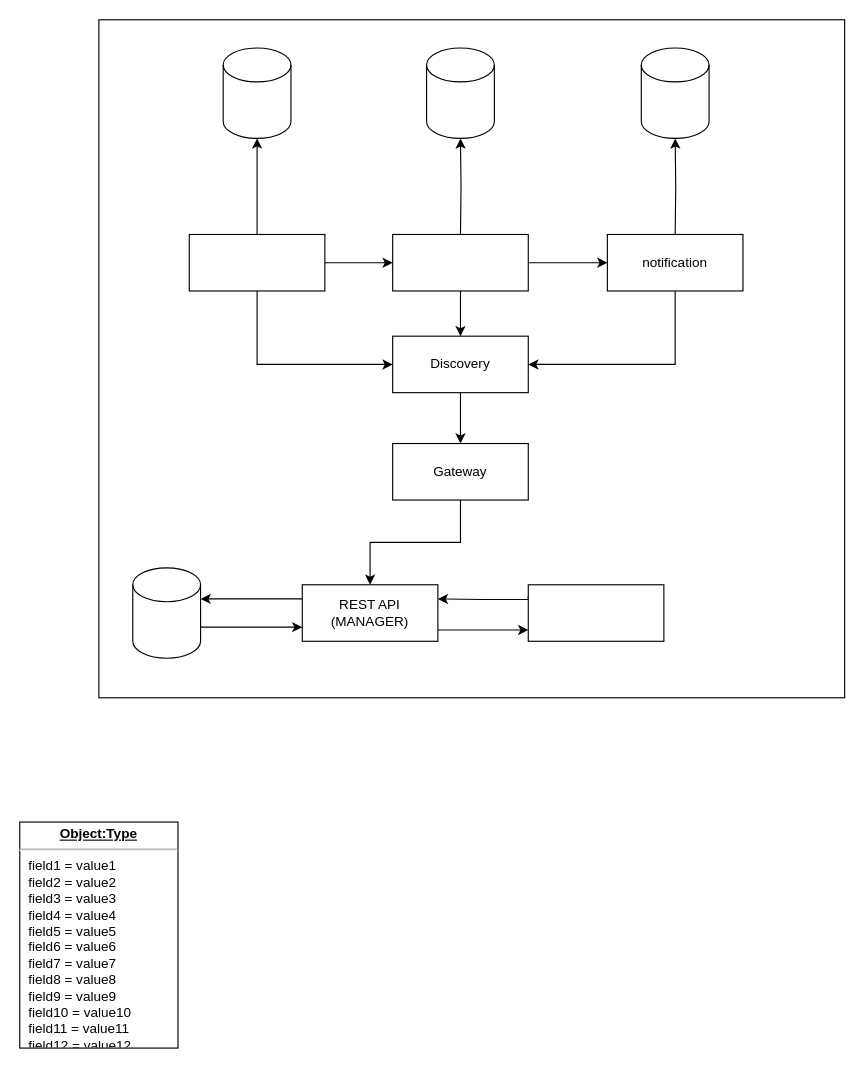
The diagram is 864 pixels wide and 1071 high, and some of its shapes have lost their labels. Each missing label, with the centre of its shape:
"payment" belongs at (256,262).
"REST API (STORE)" belongs at (595,612).
"shipping" belongs at (460,262).
